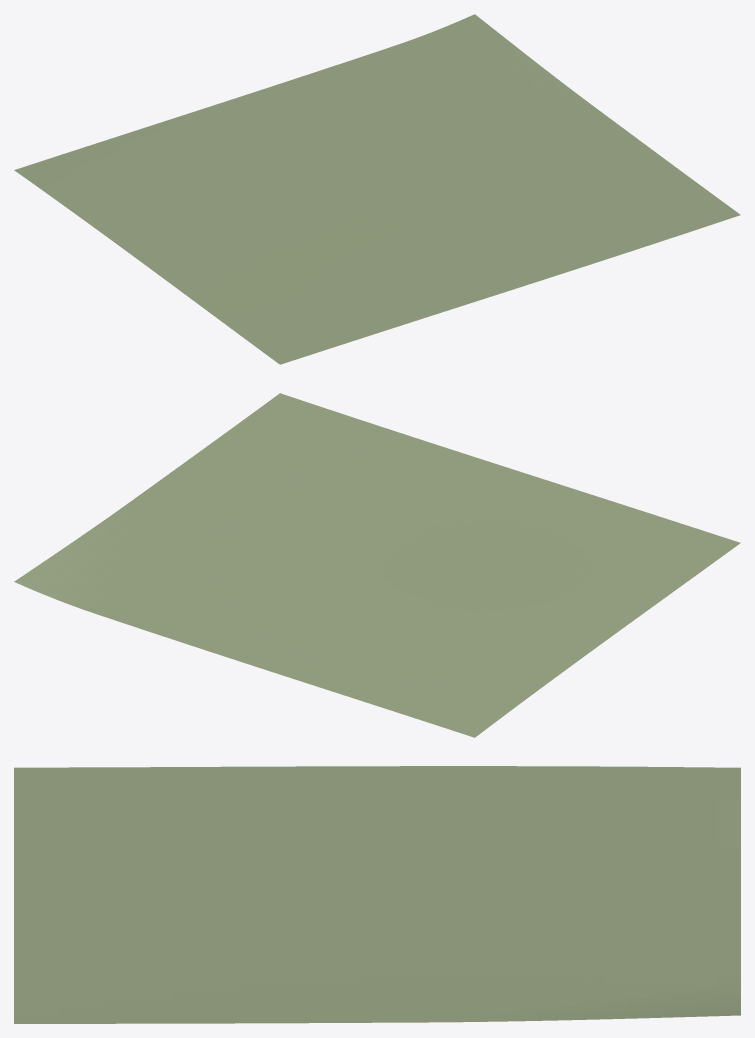
File: expanse-11-7.glb
3 views of the same model, one above another, from view 1: azimuth 30°, elevation 25°; view 2: azimuth 150°, elevation 25°; view 3: azimuth 270°, elevation 25° (orthographic). The views are drawn at different scales.
Parts seen in each view (by area): view 1: expanse-11-7; view 2: expanse-11-7; view 3: expanse-11-7.
Part boxes in pixels (x1,y1,x2,y2): expanse-11-7: [14, 14, 740, 364]; expanse-11-7: [14, 393, 740, 737]; expanse-11-7: [14, 766, 740, 1023].
Bounding box in the file's own units: 256 × 23.13 × 256.
